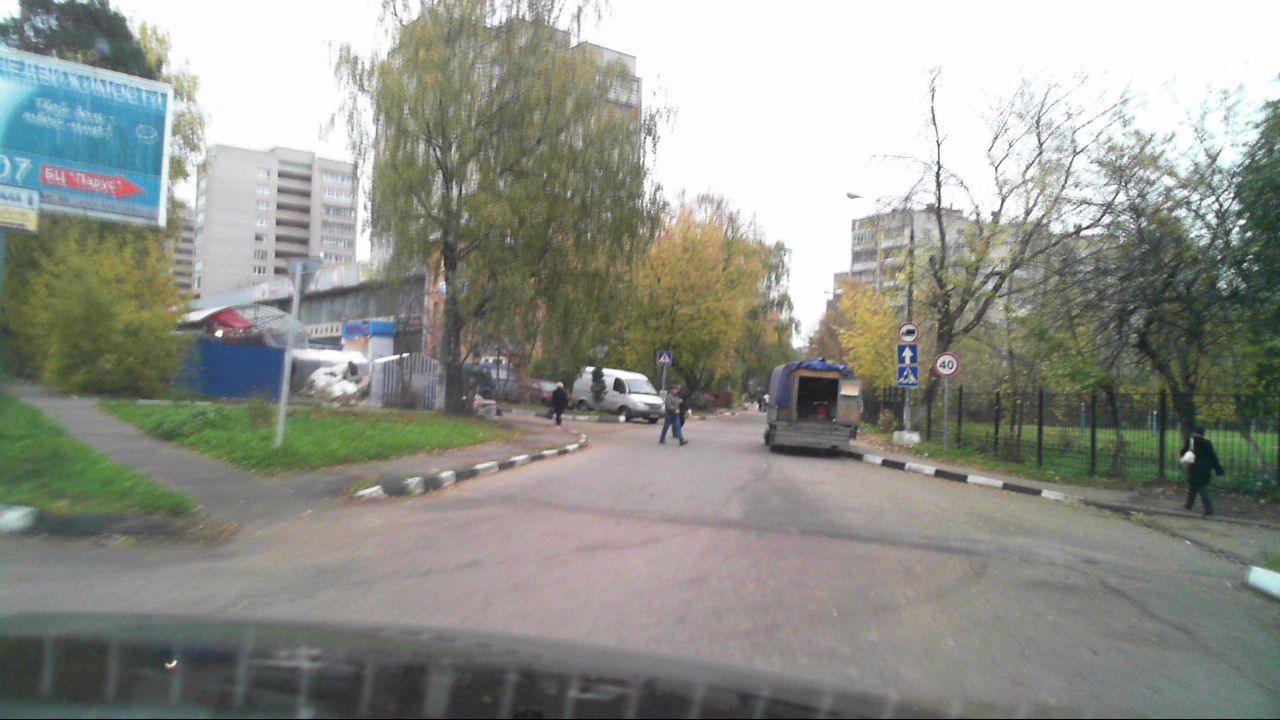speed_warning_40: (935, 352, 957, 375)
